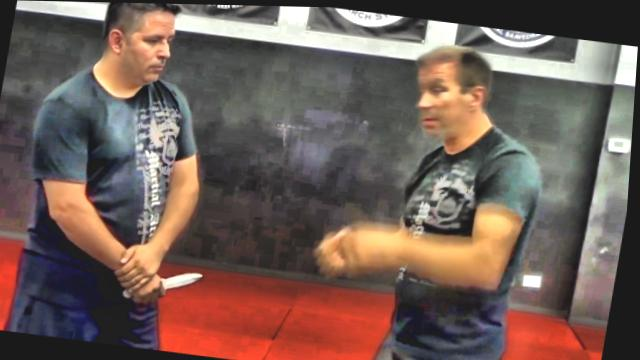knife: (121, 257, 213, 311)
